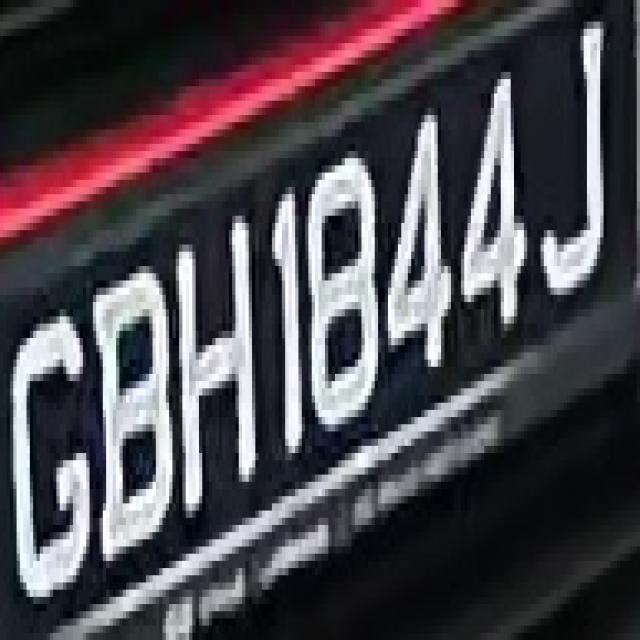1: (272, 144, 305, 510)
4: (451, 65, 541, 352), (374, 86, 458, 388)
8: (295, 129, 385, 446)
B: (90, 252, 179, 568)
G: (3, 295, 103, 618)
H: (166, 201, 265, 518)
J: (534, 7, 613, 295)
